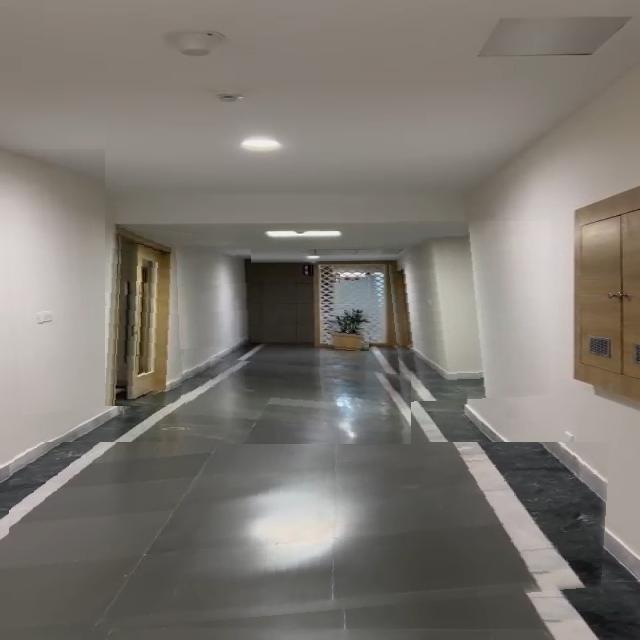door: (101, 224, 192, 406)
floor: (9, 442, 614, 640), (182, 355, 412, 444)
furniture: (325, 309, 371, 351)
wall: (384, 221, 550, 402), (0, 149, 105, 415), (176, 246, 251, 349)
